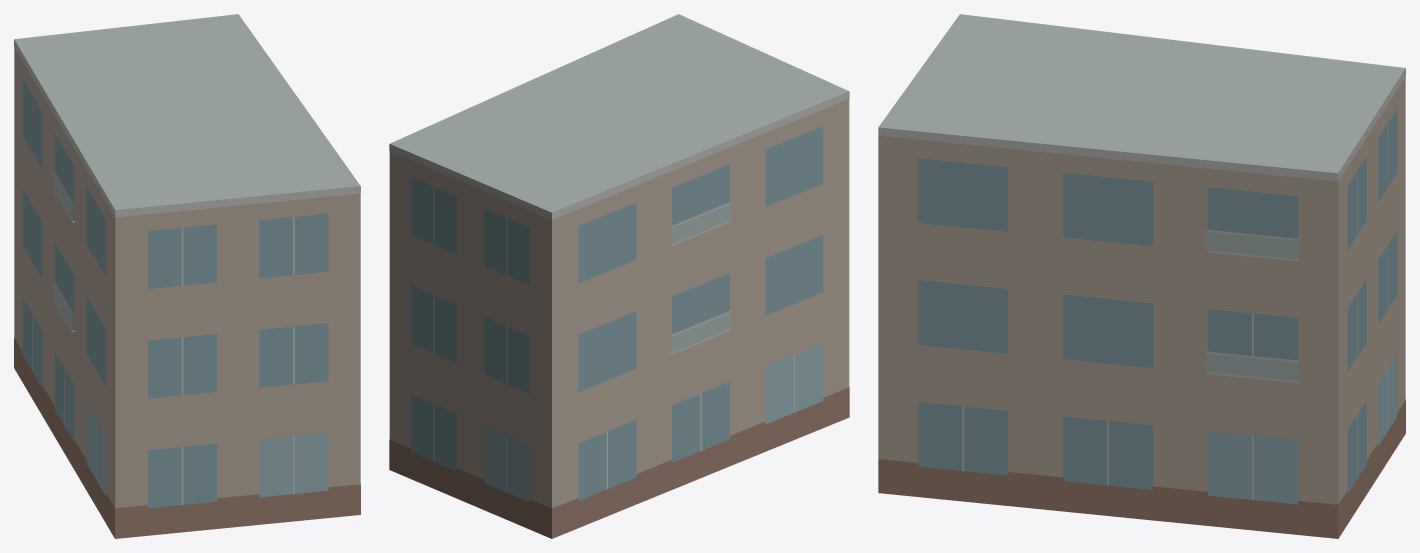
File: survey-upis-32624724.glb
3 views of the same model, side by side, from view 1: azimuth 30°, elevation 25°; view 2: azimuth 150°, elevation 25°; view 3: azimuth 270°, elevation 25° (orthographic). The views are drawn at different scales.
Visible parts, largest first — view 1: survey-upis-32624724.tmp; view 2: survey-upis-32624724.tmp; view 3: survey-upis-32624724.tmp.
Boxes of the visible parts, bbox=[...] form: survey-upis-32624724.tmp: bbox=[14, 14, 360, 538]; survey-upis-32624724.tmp: bbox=[389, 14, 849, 538]; survey-upis-32624724.tmp: bbox=[878, 14, 1405, 538].
Size of the model in its own units: 10.1 by 10.8 by 14.13.
